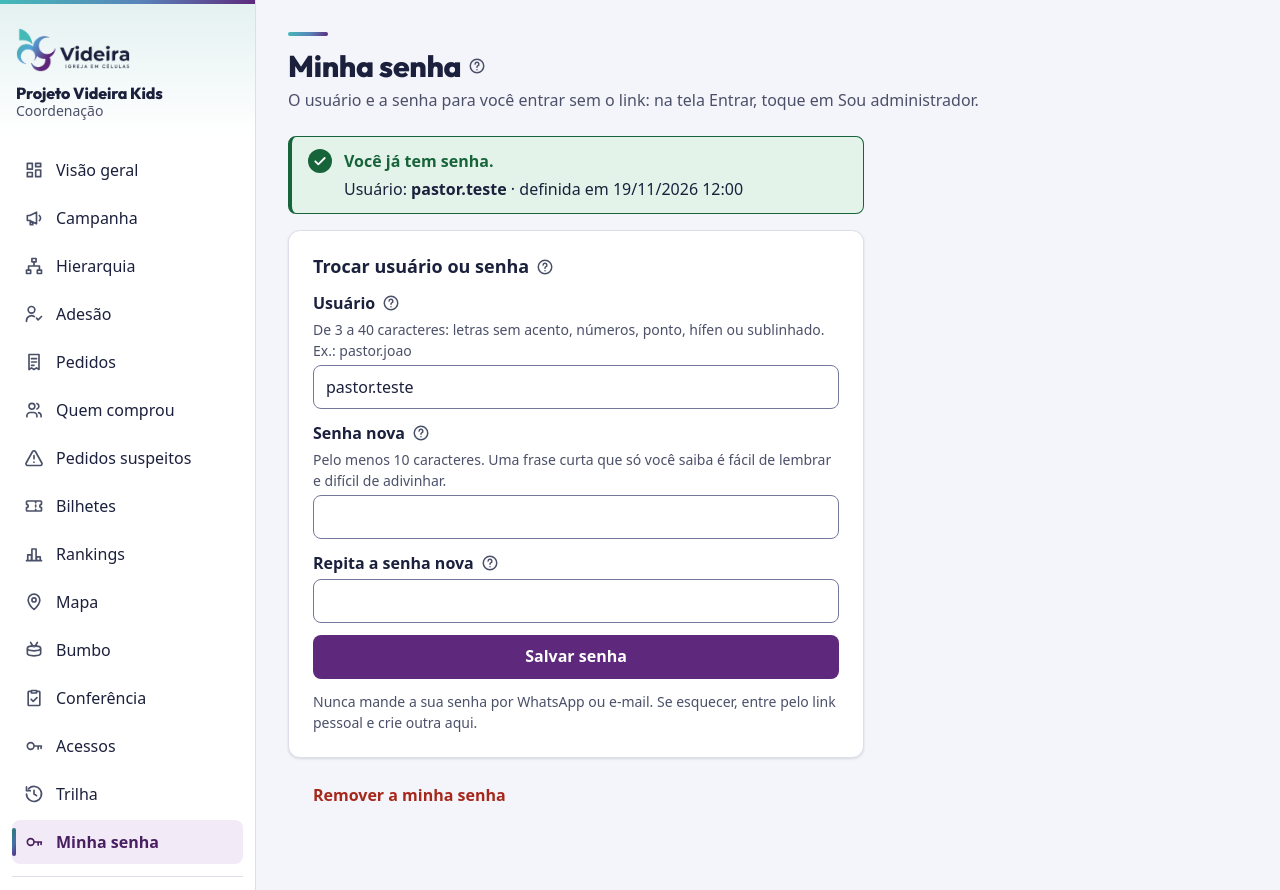
Test: RIFA-073: tela Minha senha › com senha: mostra o usuário e remove só depois de confirmar
Expected: the text "Você já tem senha." is shown, [344,150,494,172]
Expected: the heading "Trocar usuário ou senha" is shown, [313,256,529,278]
Click the button "Remover a minha senha". click: (409, 796)
box: [288,774,531,818]
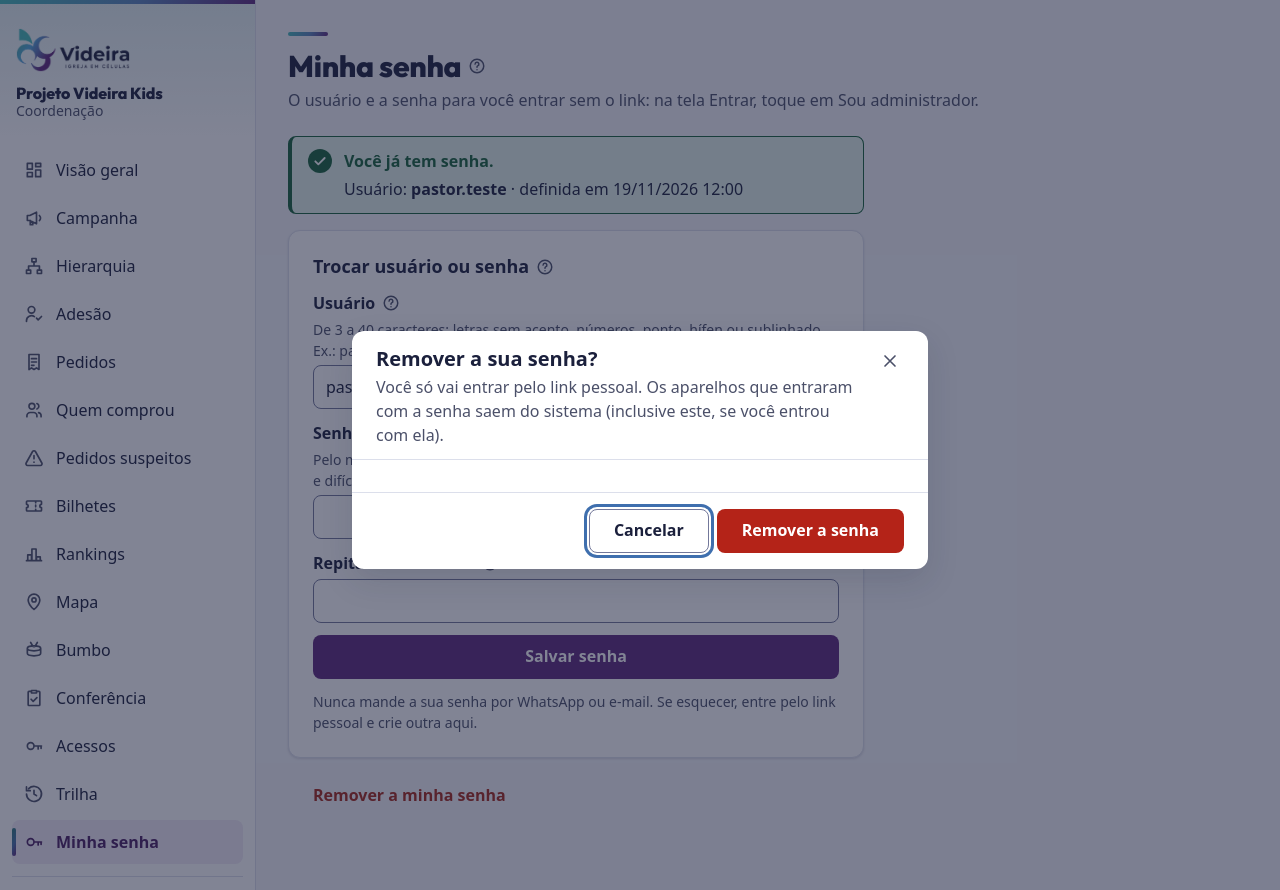
Click the button "Cancelar". click: (649, 531)
box: [589,509,709,553]
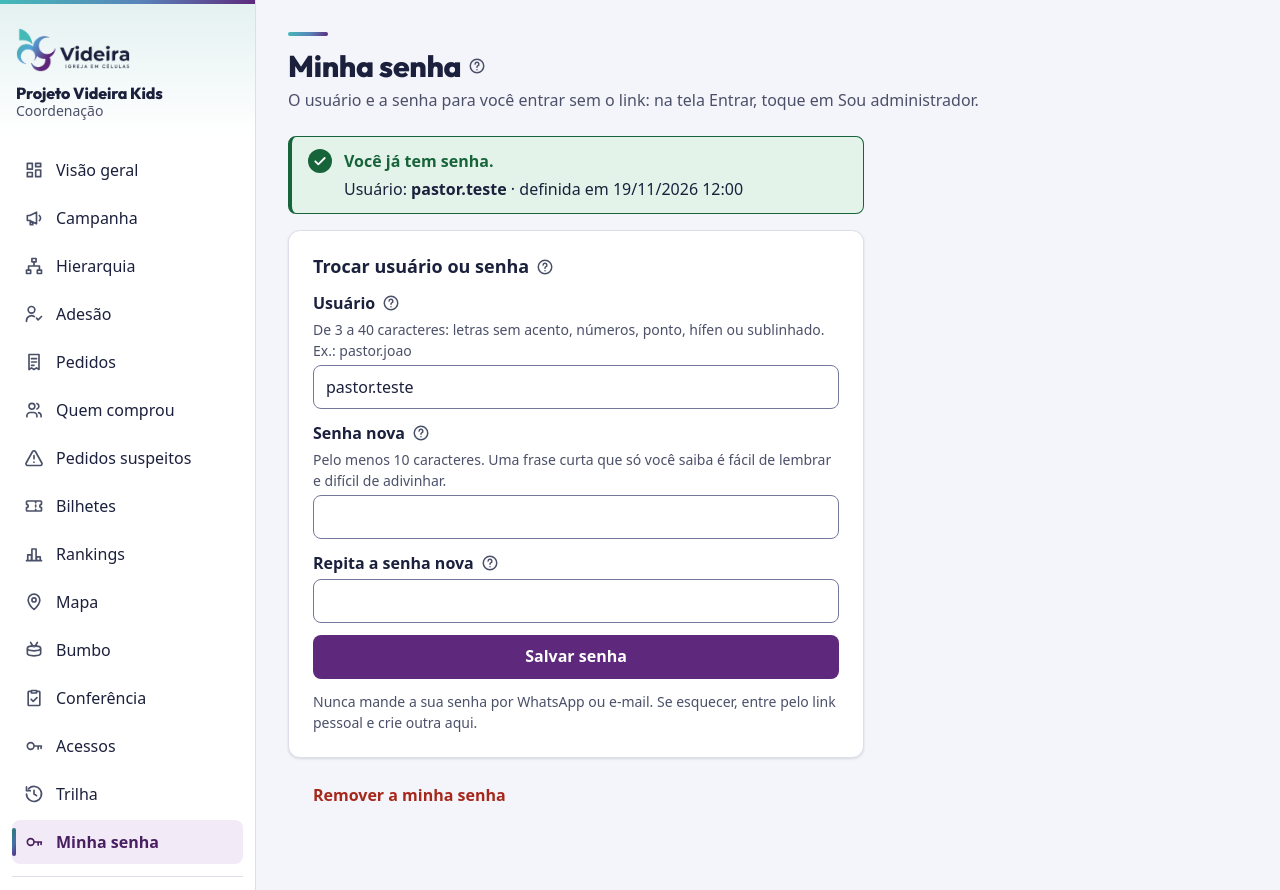
Click the button "Remover a minha senha". click: (409, 796)
box: [288,774,531,818]
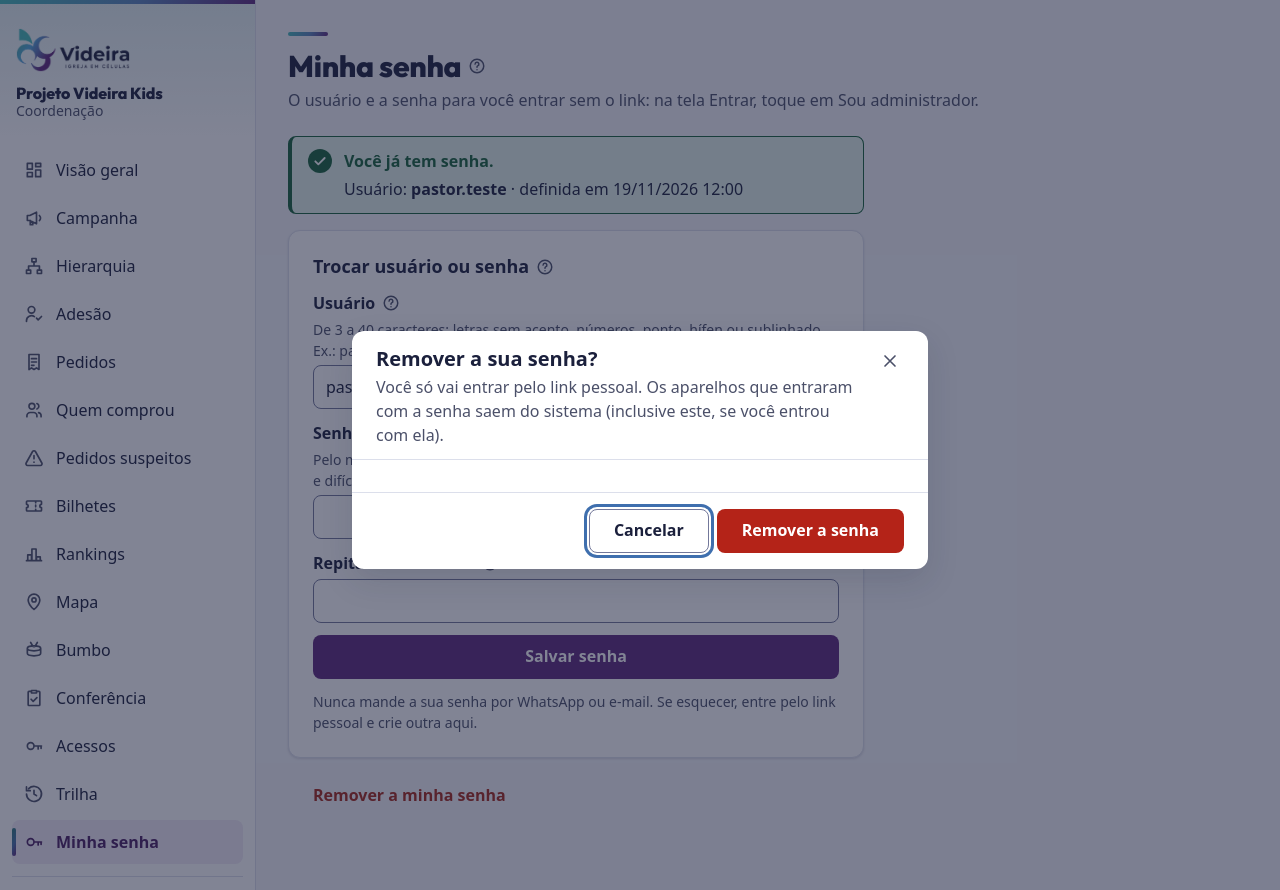
Click the button "Remover a senha". click: (810, 531)
box: [717,509,904,553]
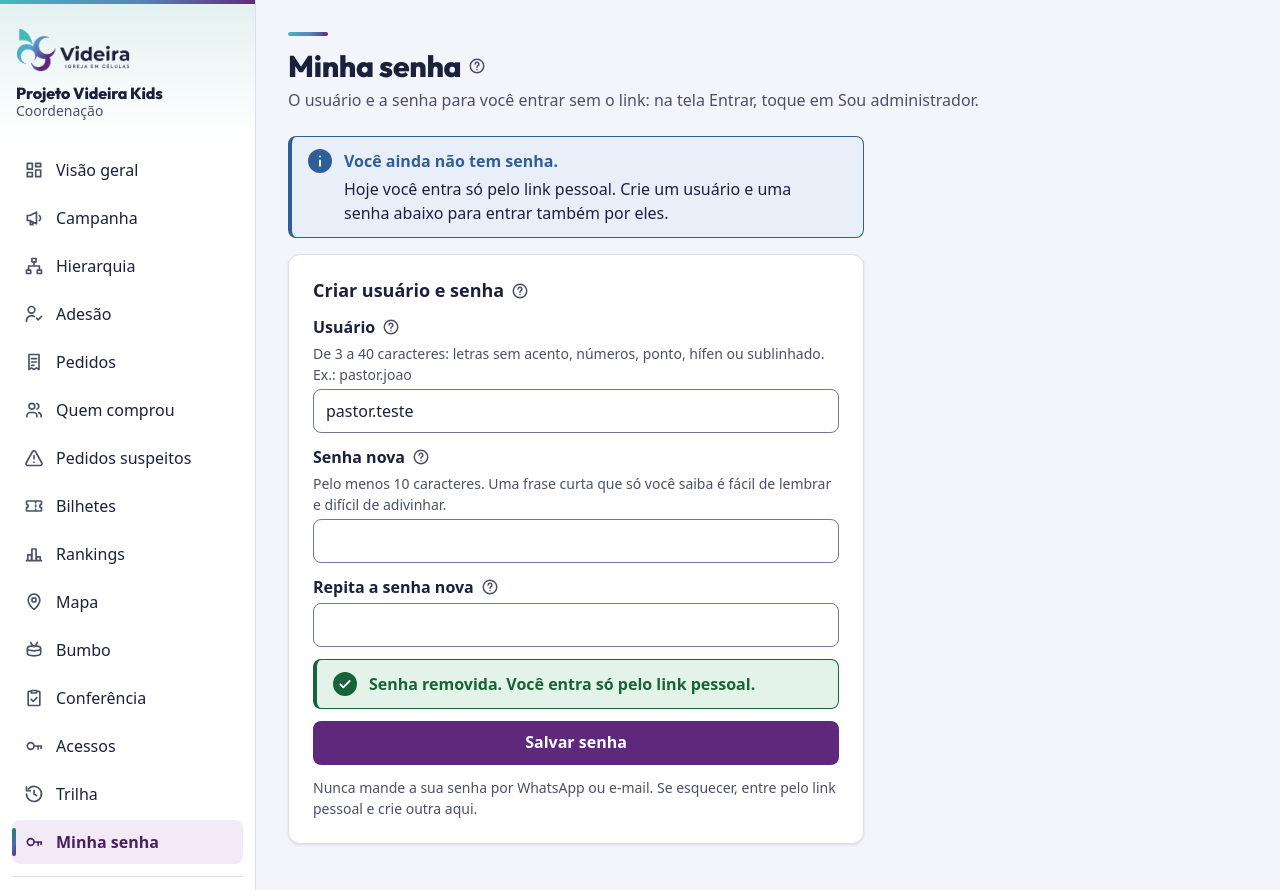
Expected: the text "Senha removida. Você entra só pelo link pessoal." is shown, [369,672,810,696]
Expected: the text "Você ainda não tem senha." is shown, [344,150,558,172]
